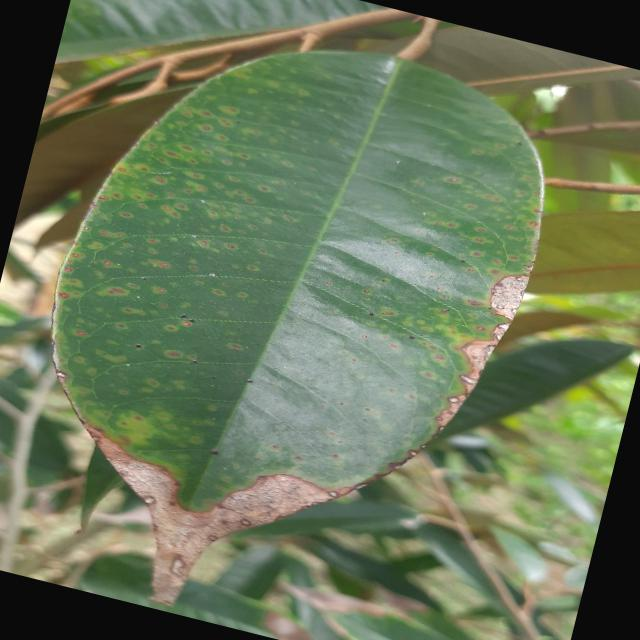Leaf Spot: (0, 0, 586, 639)
